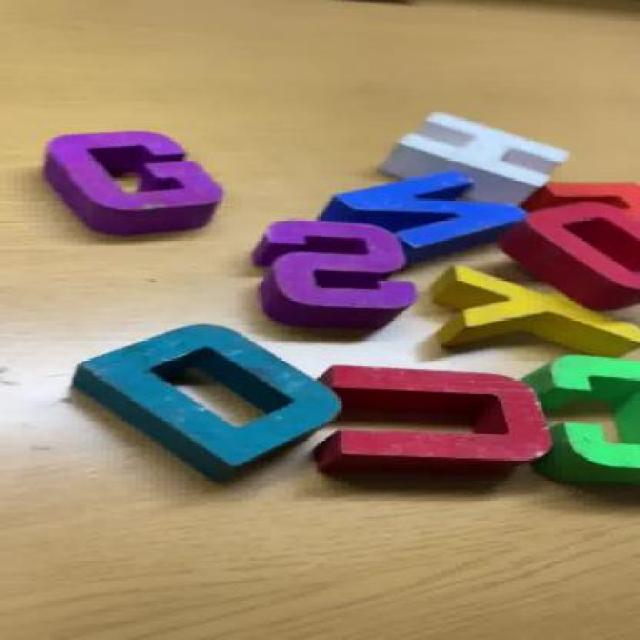D: (70, 317, 372, 486)
G: (31, 121, 238, 239)
H: (361, 114, 593, 208)
U: (332, 358, 554, 489)
